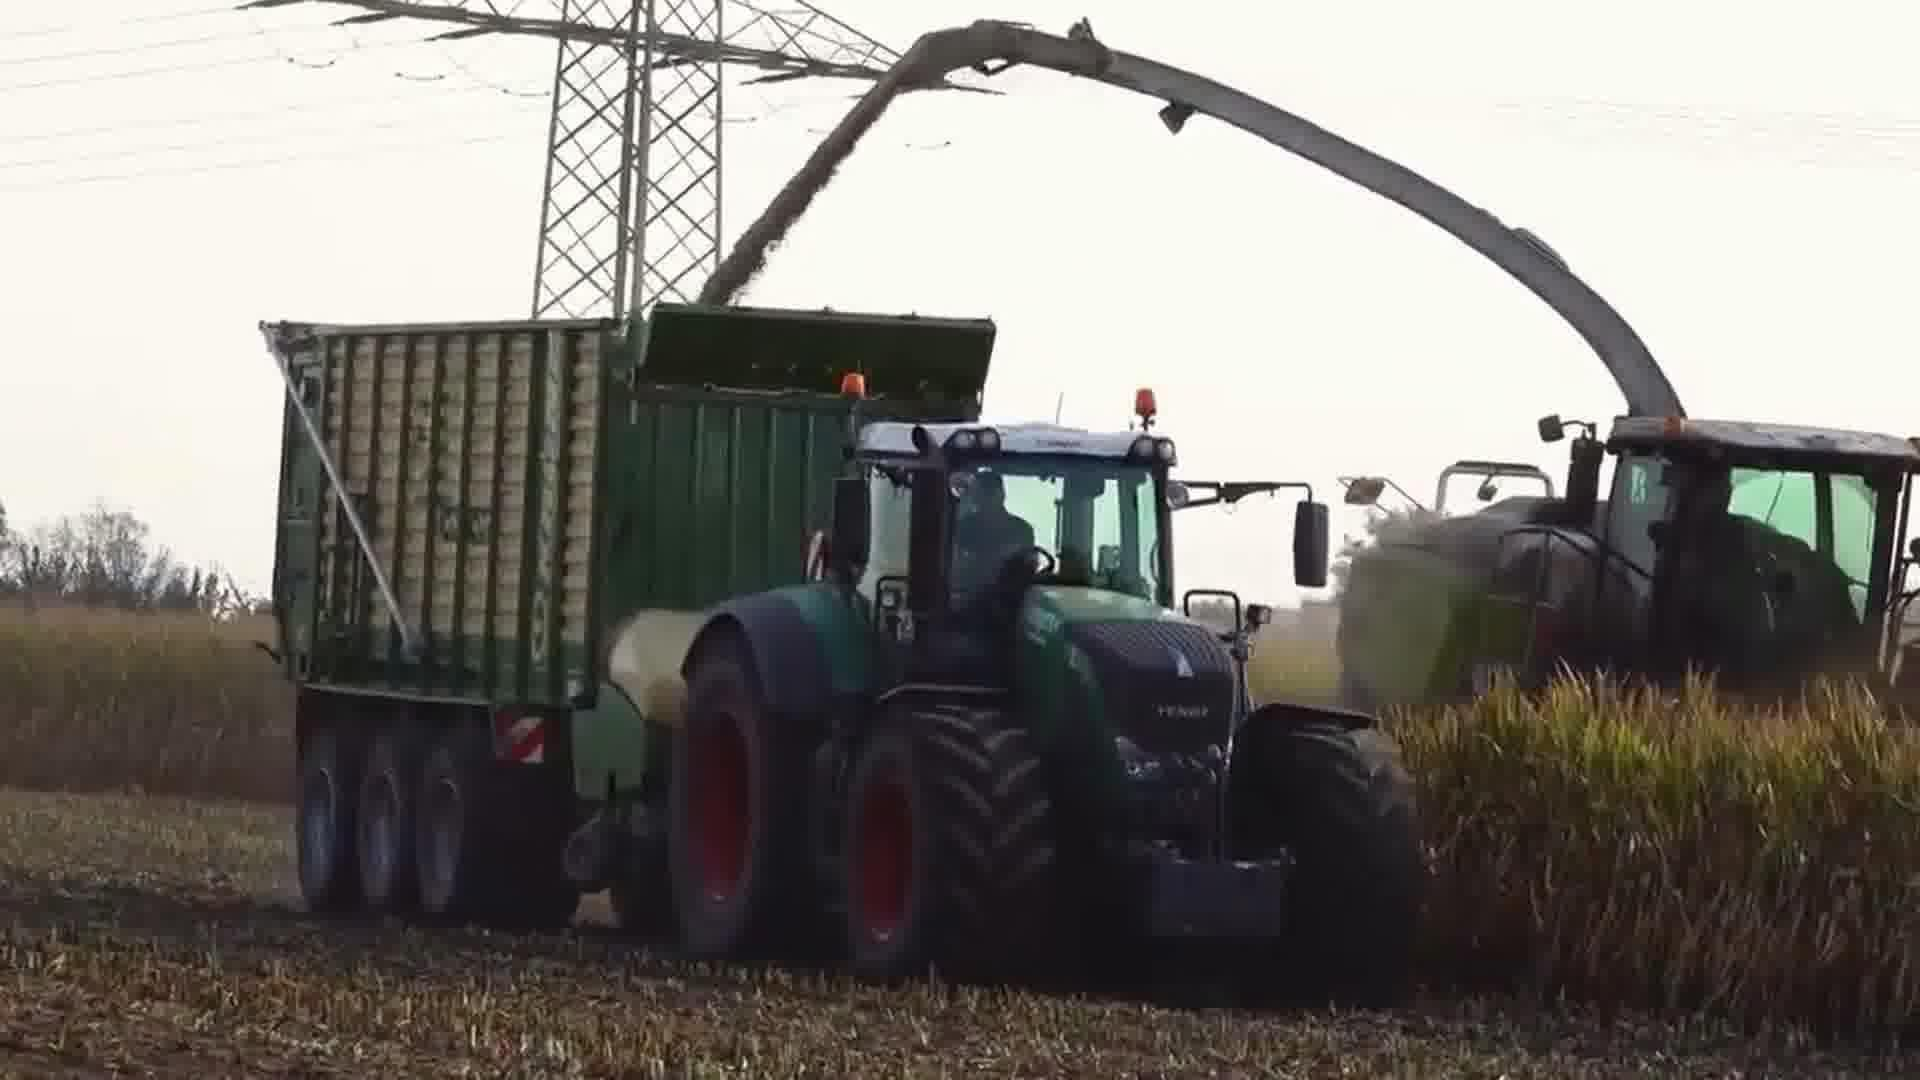combine harvester: (887, 5, 1920, 750)
tractor: (646, 360, 1439, 1021)
trailer: (245, 266, 1000, 967)
